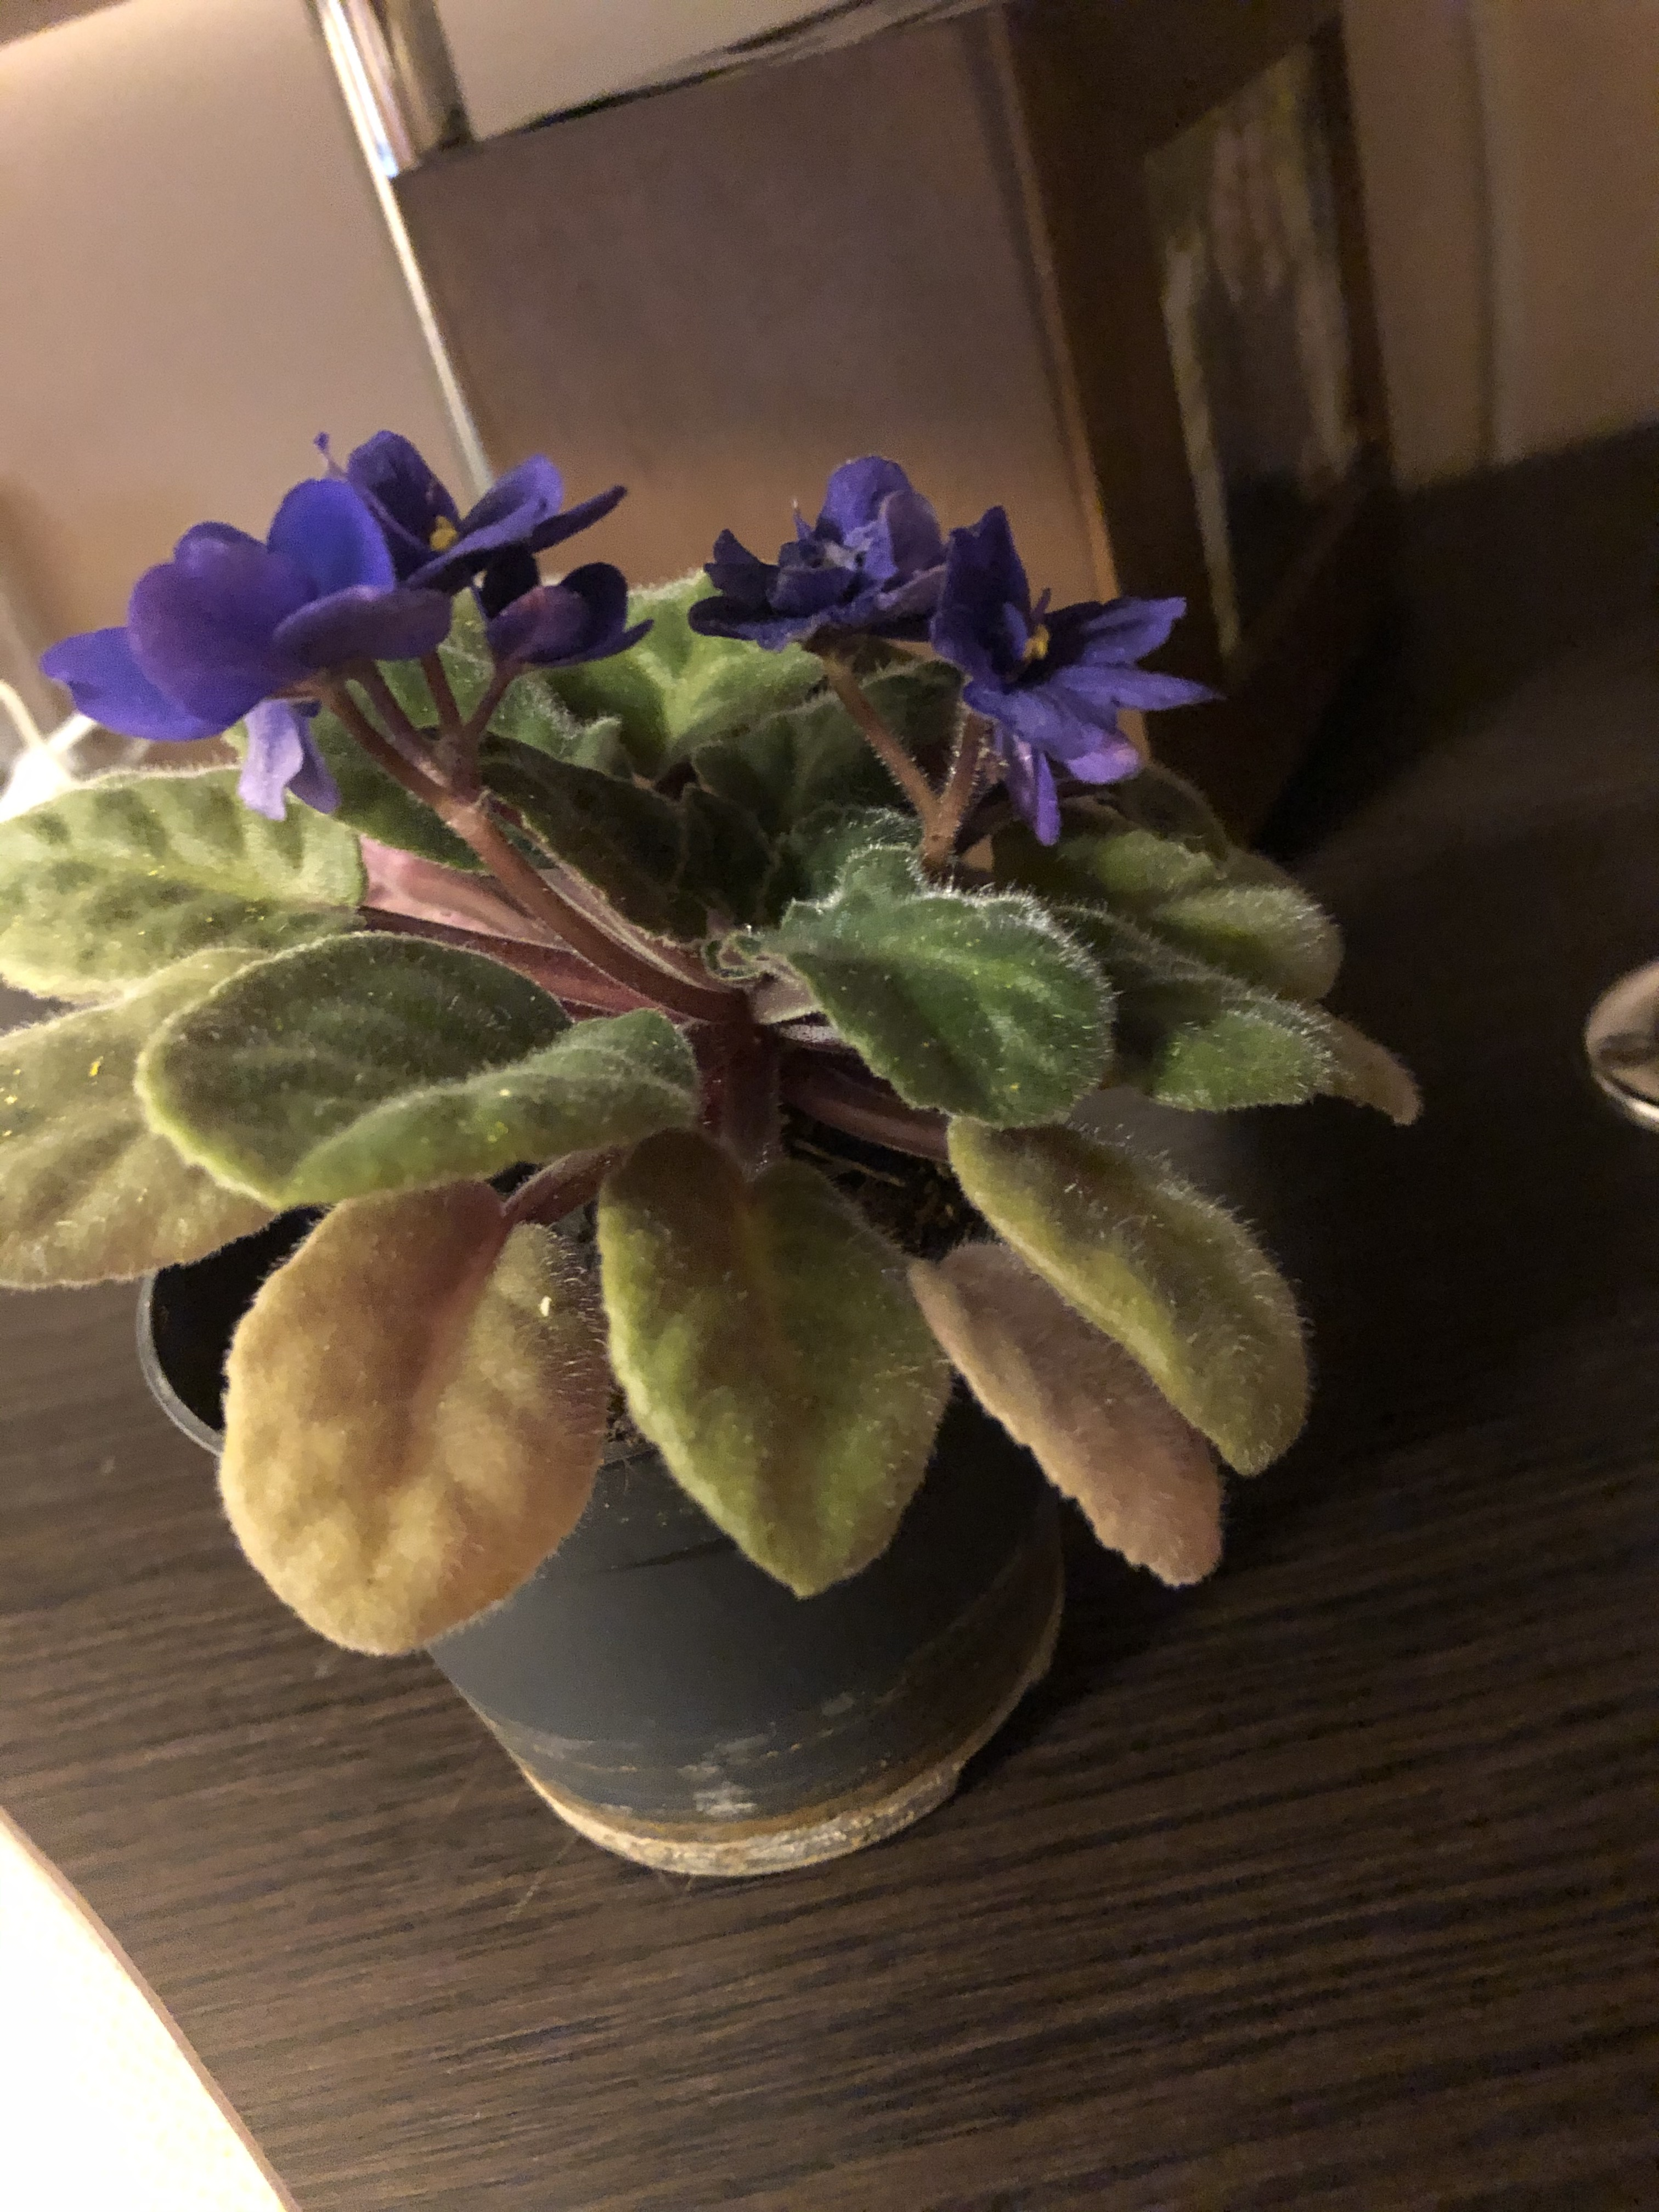ignore: (17, 423, 1457, 1655)
